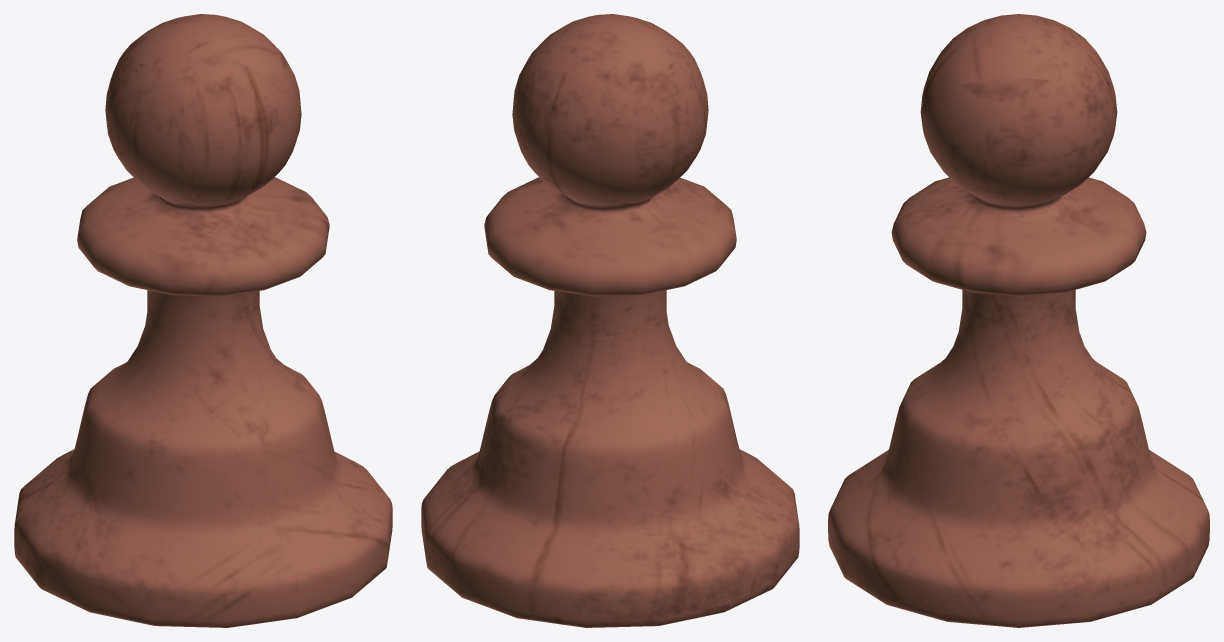
The model's file is GEO_BlackPawn_01.obj.
3 renders of one model, left to right at view 1: azimuth 30°, elevation 25°; view 2: azimuth 150°, elevation 25°; view 3: azimuth 270°, elevation 25°, orthographic.
Parts seen in each view (by area): view 1: GEO_BlackPawn_01; view 2: GEO_BlackPawn_01; view 3: GEO_BlackPawn_01.
Part boxes in pixels (<box>): GEO_BlackPawn_01: <box>14,14,392,627</box>; GEO_BlackPawn_01: <box>421,14,799,627</box>; GEO_BlackPawn_01: <box>828,14,1209,627</box>.
Size of the model in its own units: 0.034 by 0.0518 by 0.034.
